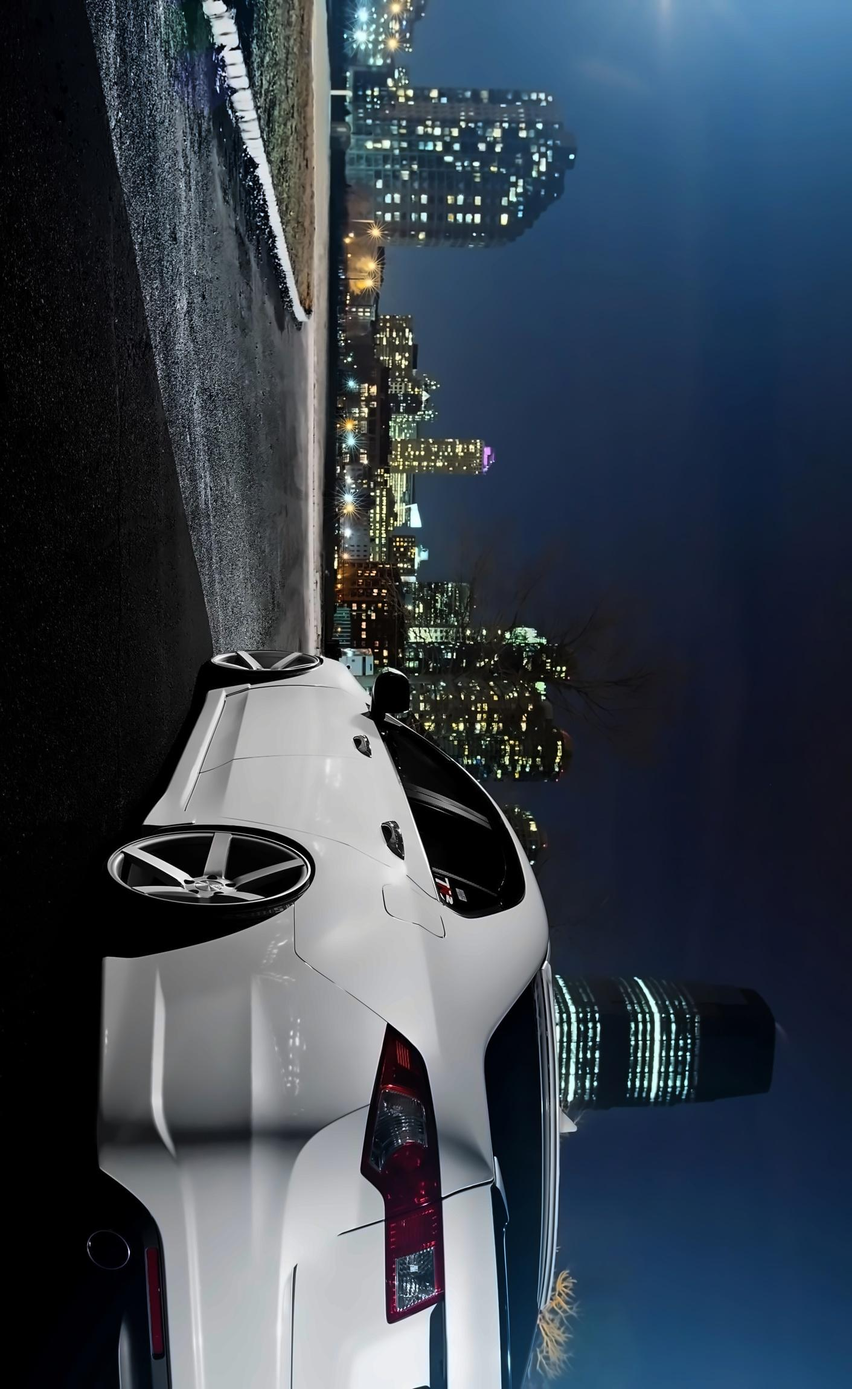Car hood: (287, 1160, 510, 1389)
Fender - -R-L-: (139, 814, 497, 1020)
Passenger-s door - -F-L-: (195, 686, 483, 776)
Passenger-s door - -R-L-: (193, 772, 531, 872)
Rear bumper: (88, 902, 311, 1389)
Rear light - -L-: (351, 1013, 449, 1332)
Side bumper - -L-: (138, 681, 239, 832)
Side mirror - -L-: (362, 660, 418, 733)
